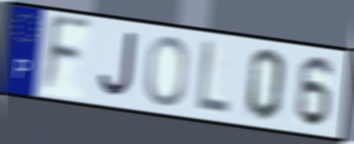0: (244, 46, 288, 124)
6: (294, 54, 336, 130)
F: (39, 13, 93, 97)
J: (97, 30, 138, 100)
L: (194, 38, 232, 118)
O: (143, 33, 190, 108)
